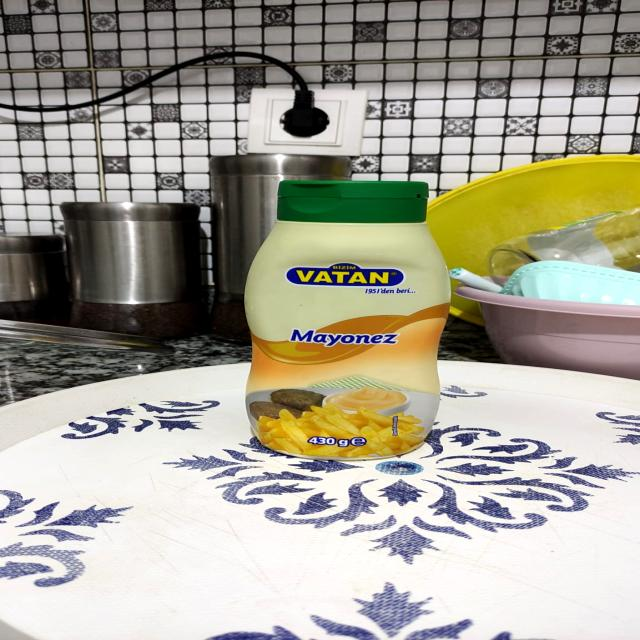mayonnaise: (237, 168, 468, 466)
